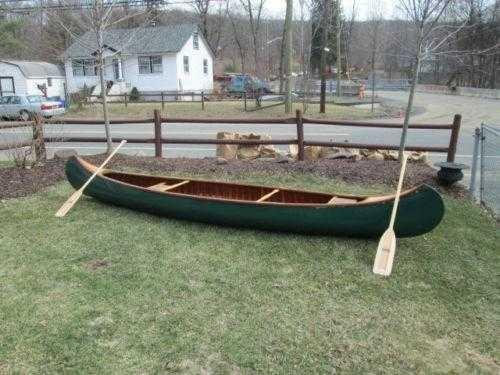kayak: (66, 148, 447, 237)
